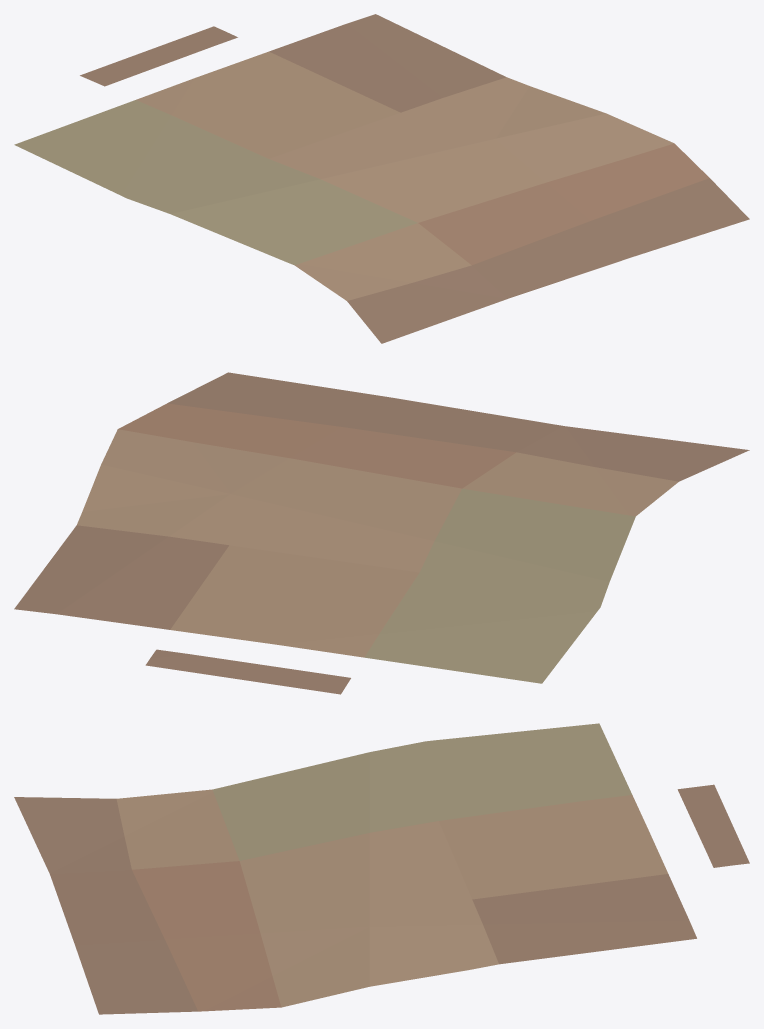
The model's file is farm_31_37_soil.glb.
3 renders of one model, top to bottom at view 1: azimuth 30°, elevation 25°; view 2: azimuth 150°, elevation 25°; view 3: azimuth 270°, elevation 25°, orthographic. The views are drawn at different scales.
Parts seen in each view (by area): view 1: geometry_0; view 2: geometry_0; view 3: geometry_0.
Boxes of the visible parts, x1,y1,x2,y2 form: geometry_0: (14,14,749,343); geometry_0: (14,372,749,694); geometry_0: (14,723,749,1014).
Size of the model in its own units: 104 by 5.32 by 120.
